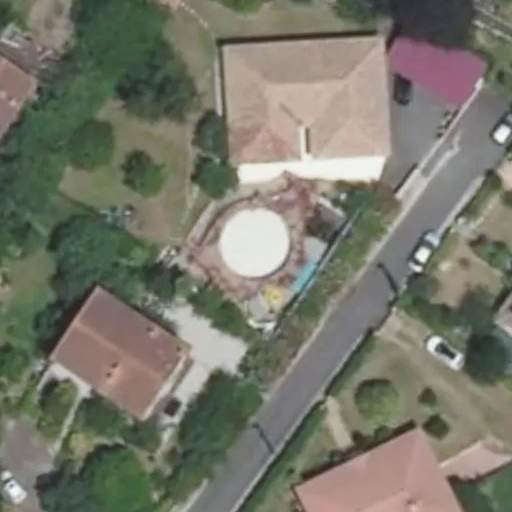pool: (216, 211, 295, 272)
